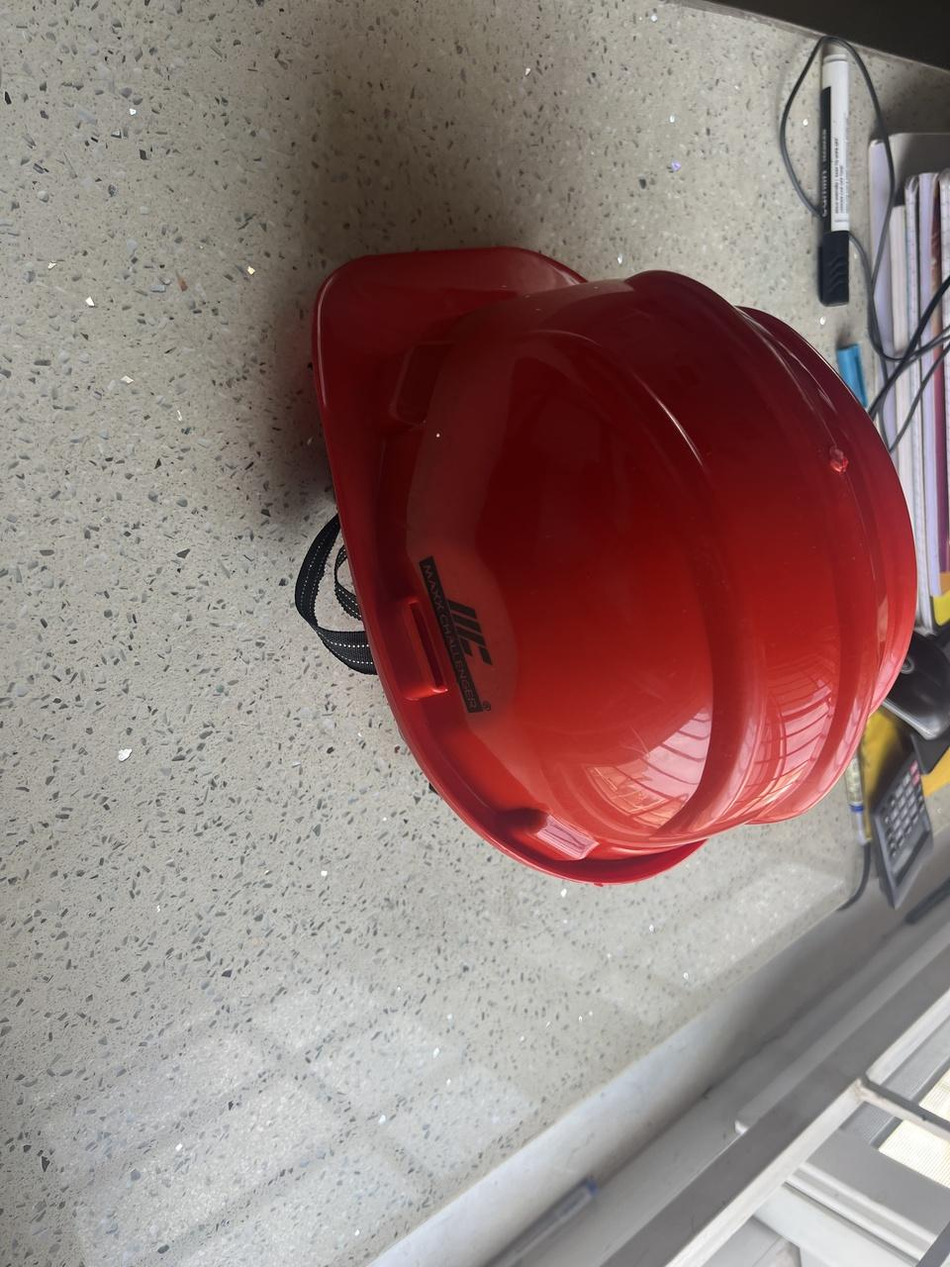Helmet: (294, 245, 918, 886)
